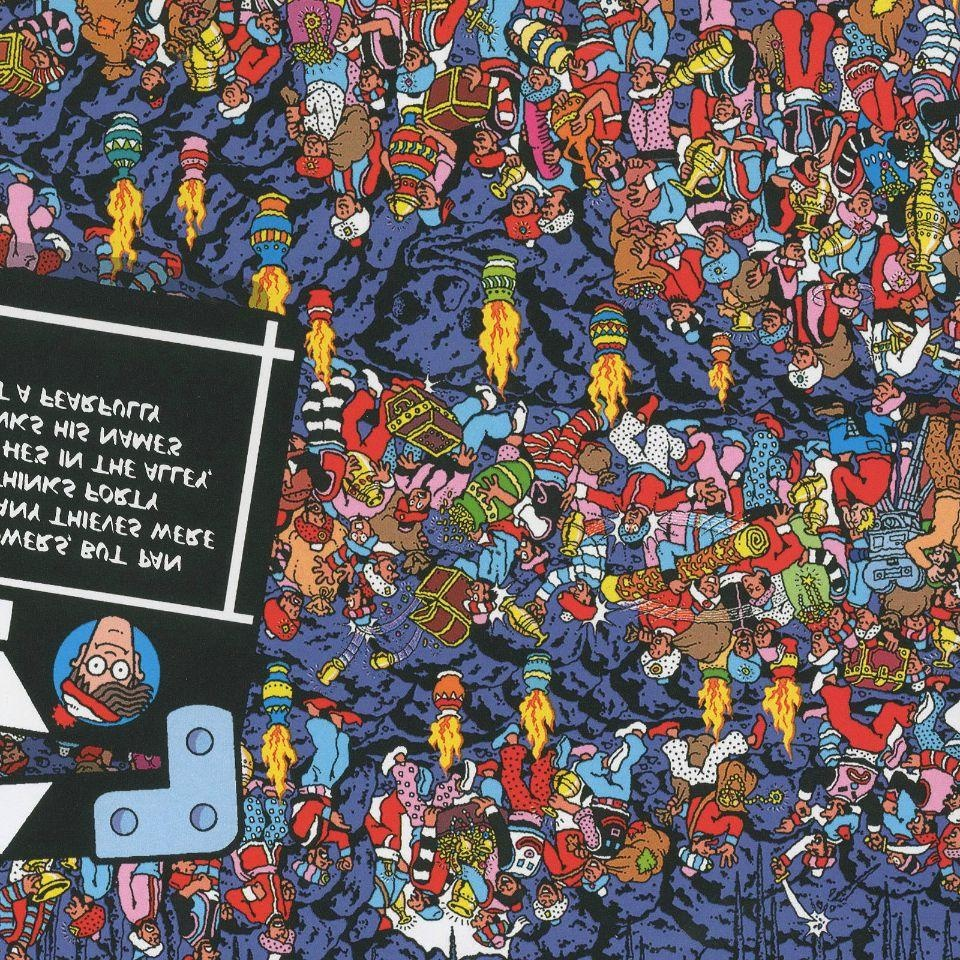waldo: (54, 616, 158, 727)
